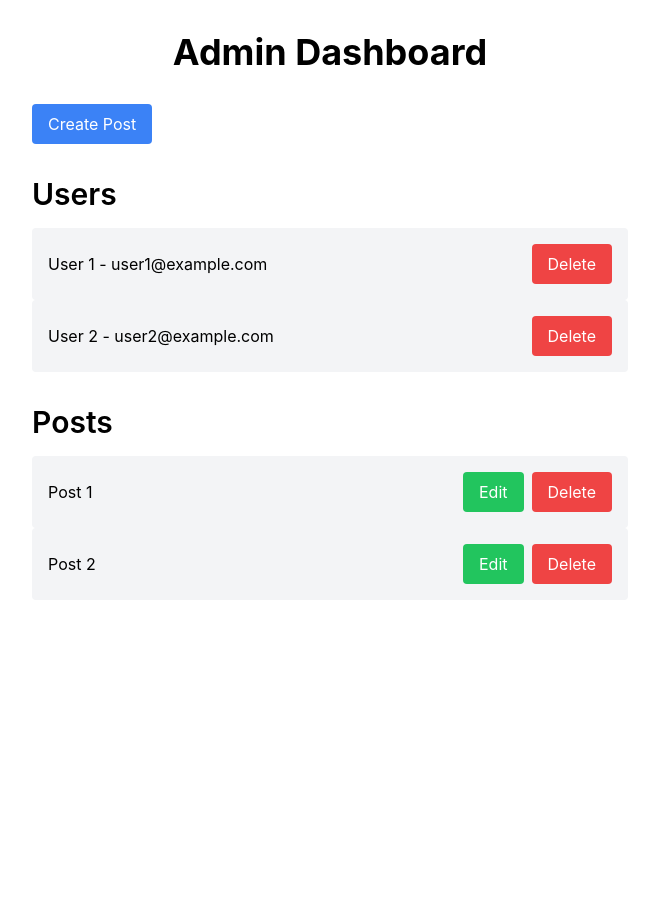
Test case: <AdminDashboard /> › deletes a post
This screenshot has width=660, height=900.
Click the button "Delete" in the row of "Post 1": (573, 492) [532, 472, 613, 512]
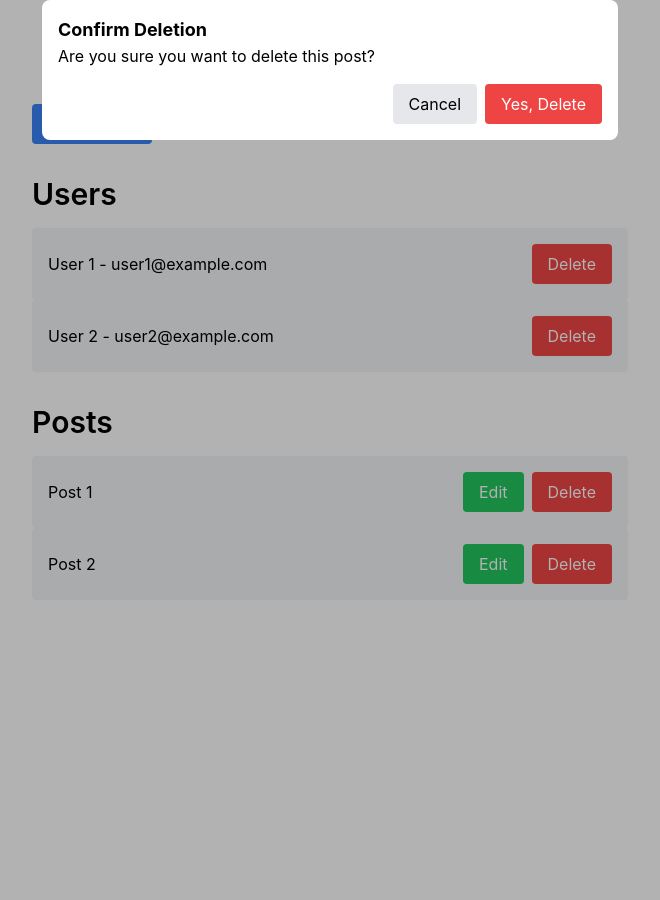
Click the button "Yes, Delete": (544, 104) [485, 84, 602, 124]
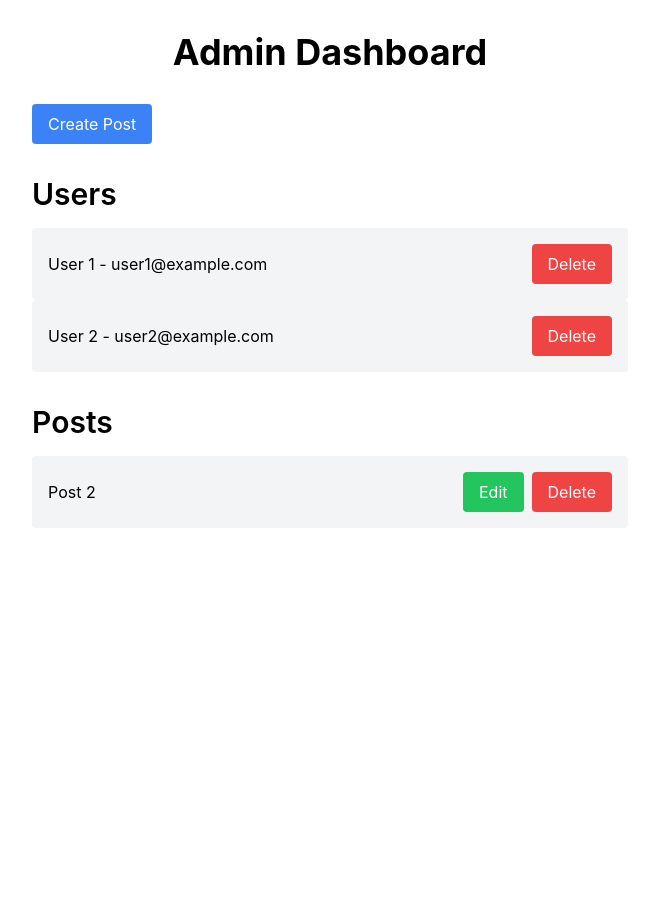
Now the text "Post 1" is gone
